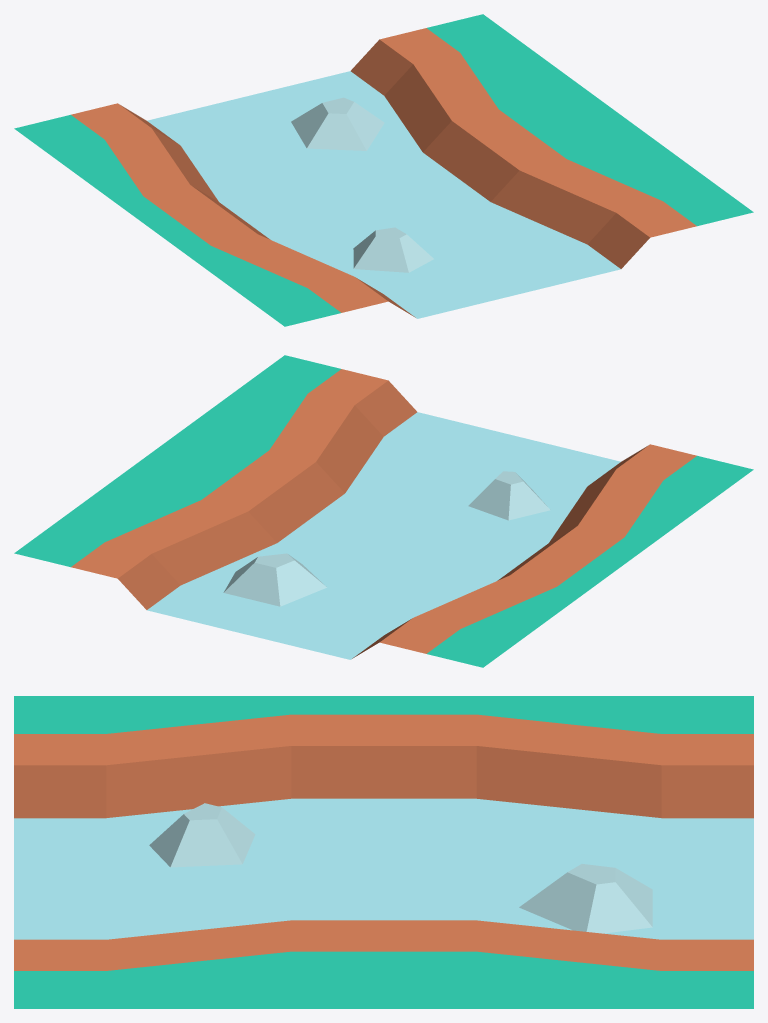
Rendered from ground_riverRocks.glb.
The picture shows the model from 3 angles, top to bottom: view 1: azimuth 30°, elevation 25°; view 2: azimuth 150°, elevation 25°; view 3: azimuth 270°, elevation 25°; orthographic projection. The views are drawn at different scales.
Visible parts, largest first — view 1: ground_riverRocks; view 2: ground_riverRocks; view 3: ground_riverRocks.
Boxes of the visible parts, x1,y1,x2,y2 form: ground_riverRocks: (14, 14, 753, 326); ground_riverRocks: (14, 355, 753, 667); ground_riverRocks: (14, 696, 753, 1008).
Bounding box in the file's own units: 1 × 0.05 × 1.
